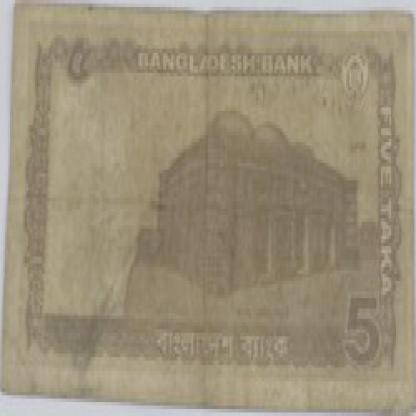Five Taka: (374, 97, 401, 309), (343, 284, 379, 378), (63, 35, 97, 94)
